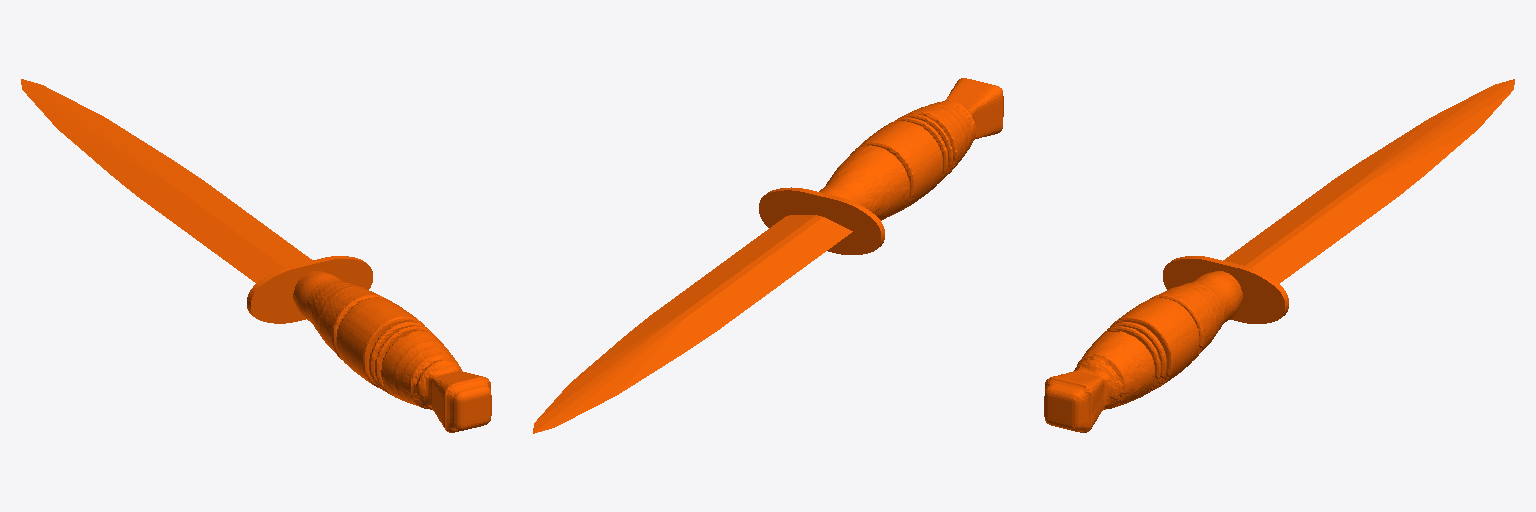
robot.urdf — Knife_418:
<?xml version="1.0" ?>
<robot name="Knife_418">
   <material name="obj_color">
      <color rgba="1.0 0.423529411765 0.0392156862745 1.0"/>
   </material>
   <link name="top">
      <inertial>
         <origin rpy="1.027767173354111e-05 8.050122440261608e-05 8.475280281831388e-05" xyz="-9.615338255312079e-05 -0.04689935756898253 -1.925548558519997e-05"/>
         <mass value="0.07798608713210869"/>
         <inertia ixx="8.050136638774769e-05" ixy="-1.24831998045856e-08" ixz="2.476605574723256e-08" iyy="1.027768780700768e-05" iyz="3.211734665127089e-08" izz="8.47526447597157e-05"/>
      </inertial>
      <visual>
         <origin rpy="0 0 0" xyz="0 0 0"/>
         <geometry>
            <mesh filename="top_watertight_tiny.stl" scale="1 1 1"/>
         </geometry>
         <material name="obj_color"/>
      </visual>
      <collision>
         <origin rpy="0 0 0" xyz="0 0 0"/>
         <geometry>
            <mesh filename="top_watertight_tiny.obj" scale="1 1 1"/>
         </geometry>
      </collision>
   </link>
   <link name="bottom">
      <inertial>
         <origin rpy="3.737896833406346e-07 2.619473546272588e-05 2.65310780553638e-05" xyz="-8.995500170710279e-05 0.07740238470711371 -0.0003410000000000002"/>
         <mass value="0.01248527209892144"/>
         <inertia ixx="2.619473546267107e-05" ixy="-3.761803305965897e-11" ixz="5.442509157300805e-25" iyy="3.737896833954396e-07" iyz="-0" izz="2.65310780553638e-05"/>
      </inertial>
      <visual>
         <origin rpy="0 0 0" xyz="0 0 0"/>
         <geometry>
            <mesh filename="bottom_watertight_tiny.stl" scale="1 1 1"/>
         </geometry>
         <material name="obj_color"/>
      </visual>
      <collision>
         <origin rpy="0 0 0" xyz="0 0 0"/>
         <geometry>
            <mesh filename="bottom_watertight_tiny.obj" scale="1 1 1"/>
         </geometry>
      </collision>
   </link>
   <link name="world"/>
   <joint name="world_to_base" type="fixed">
      <origin xyz="0 0 0"/>
      <axis xyz="0 0 0"/>
      <parent link="world"/>
      <child link="bottom"/>
   </joint>
   <joint name="rotation" type="revolute">
      <origin xyz="0 0 0"/>
      <axis xyz="0 0 -1"/>
      <parent link="bottom"/>
      <child link="top"/>
      <dynamics damping="1.0" friction="1.0"/>
      <limit effort="0.1" velocity="0.1" lower="0" upper="0.001"/>
   </joint>
</robot>

--- Render facts (derived) ---
3 views of the same robot in one strip: view 1: azimuth 30°, elevation 25°; view 2: azimuth 150°, elevation 25°; view 3: azimuth 330°, elevation 25° (orthographic).
Model Knife_418 with 3 links and 2 joints (1 revolute, 1 fixed), rooted at world, posed all joints at 0.
Visible links, largest first — view 1: top, bottom; view 2: top, bottom; view 3: top, bottom.
Boxes of the visible links, x1,y1,x2,y2 form: top: [247, 256, 491, 432]; bottom: [21, 79, 312, 283]; top: [759, 78, 1003, 254]; bottom: [533, 215, 852, 433]; top: [1044, 256, 1288, 432]; bottom: [1223, 79, 1514, 283].
Size in the robot's own frame: 0.0499 by 0.3201 by 0.028 metres.
2 mesh visuals loaded from 2 distinct referenced files (2 binary STL).